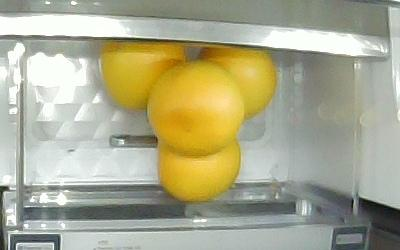grapefruit: (147, 60, 243, 156), (99, 39, 189, 111), (196, 46, 276, 116), (158, 138, 240, 200)
